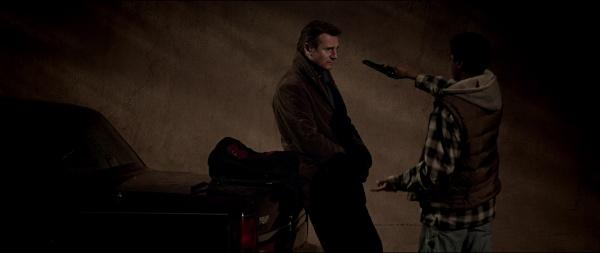Gun: (363, 59, 398, 80)
